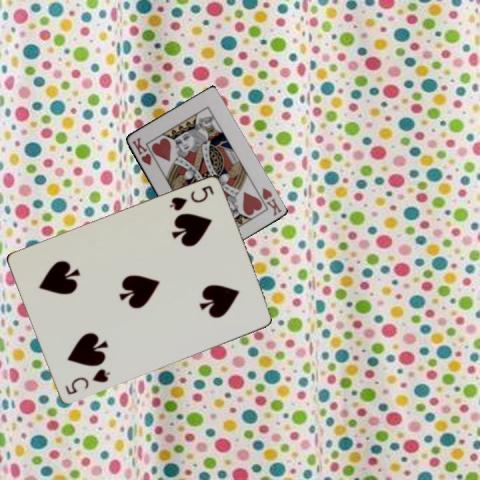5s: (61, 366, 112, 397), (166, 182, 215, 212)
Kh: (128, 134, 153, 166), (258, 185, 283, 217)
